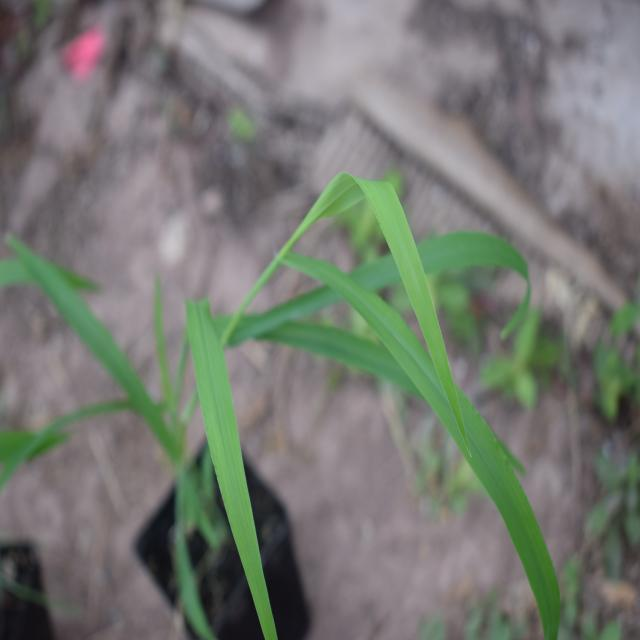crabgrass: (141, 162, 566, 619)
